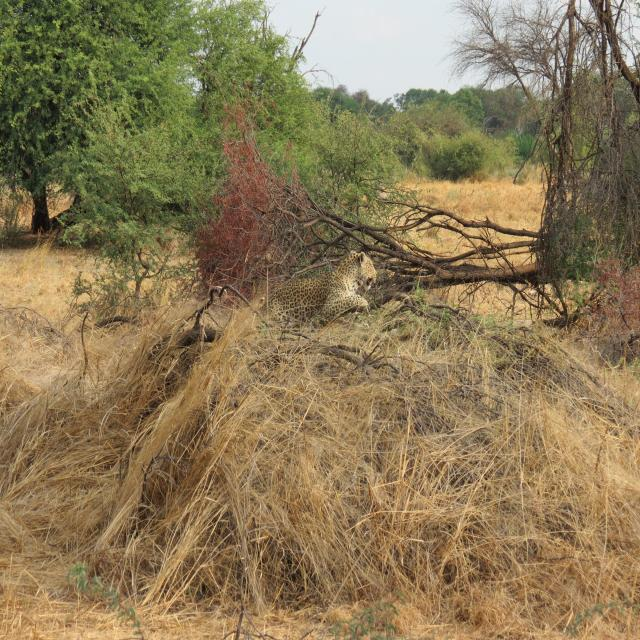Leopard: (247, 245, 378, 336)
